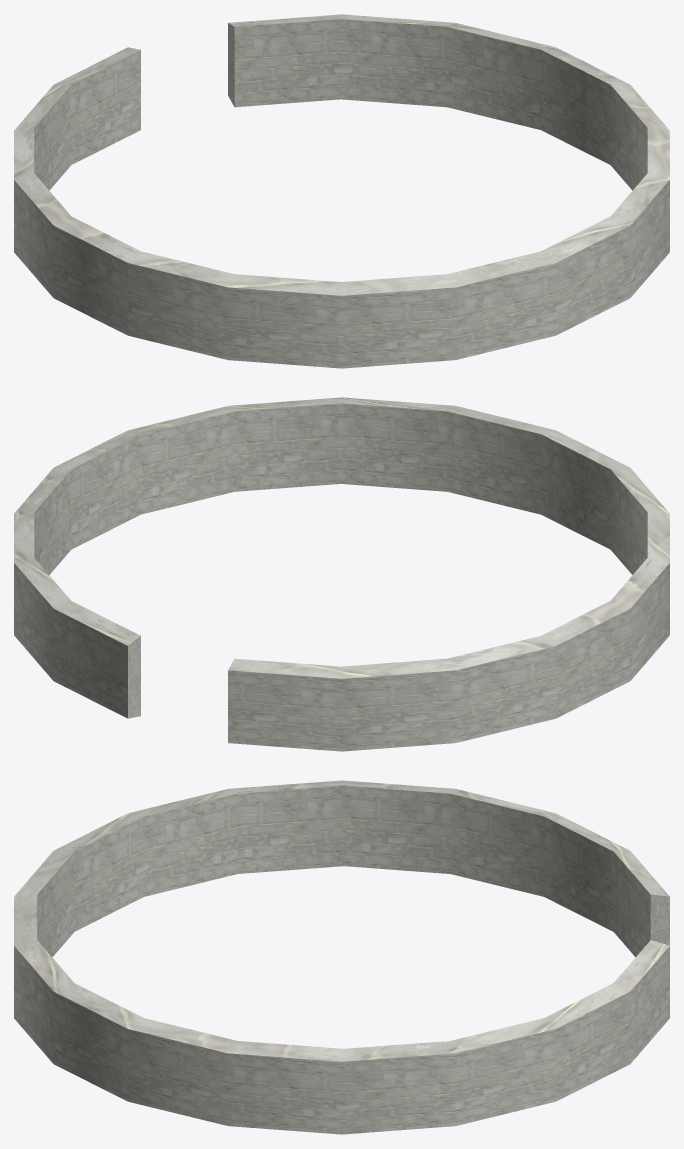
The model's file is 원형벽돌.fbx.
3 renders of one model, top to bottom at view 1: azimuth 30°, elevation 25°; view 2: azimuth 150°, elevation 25°; view 3: azimuth 270°, elevation 25°, orthographic.
Visible parts, largest first — view 1: 원형벽돌; view 2: 원형벽돌; view 3: 원형벽돌.
Boxes of the visible parts, x1,y1,x2,y2 form: 원형벽돌: (14,14,669,368); 원형벽돌: (14,397,669,751); 원형벽돌: (14,780,669,1134).
Bounding box in the file's own units: 2646 × 353 × 2606.
